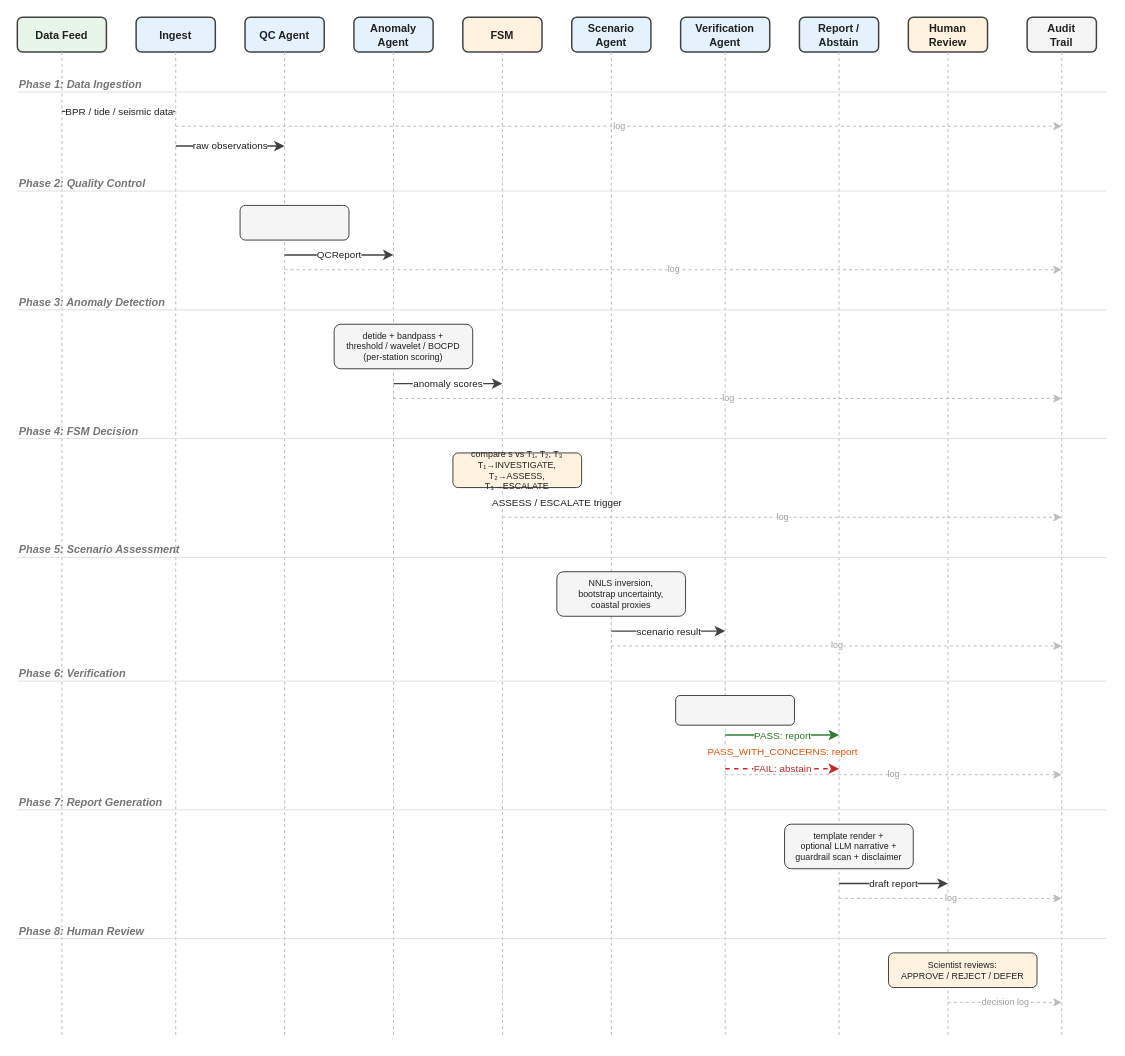
Image size: 1125x1056. Some labels were removed from this diagram. The centre of each missing label's shape, as x and y in pixels:
"9 verification checks" goes at (x=734, y=709).
"QARTOD tests (range, spike, rate-of-change, flat-line, timing-gap)" goes at (x=294, y=222).
